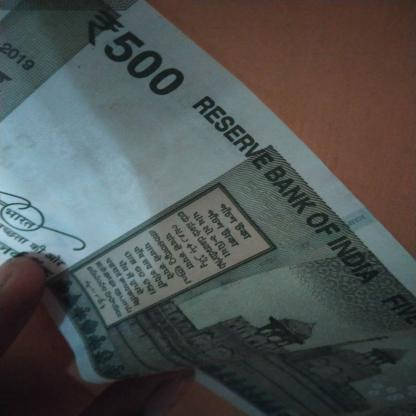New500Back: (0, 2, 415, 415)
